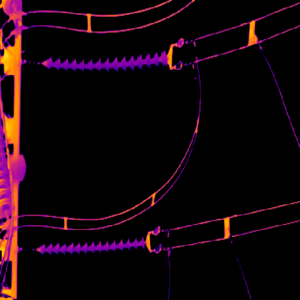insulator: (38, 50, 170, 71), (36, 233, 144, 255)
